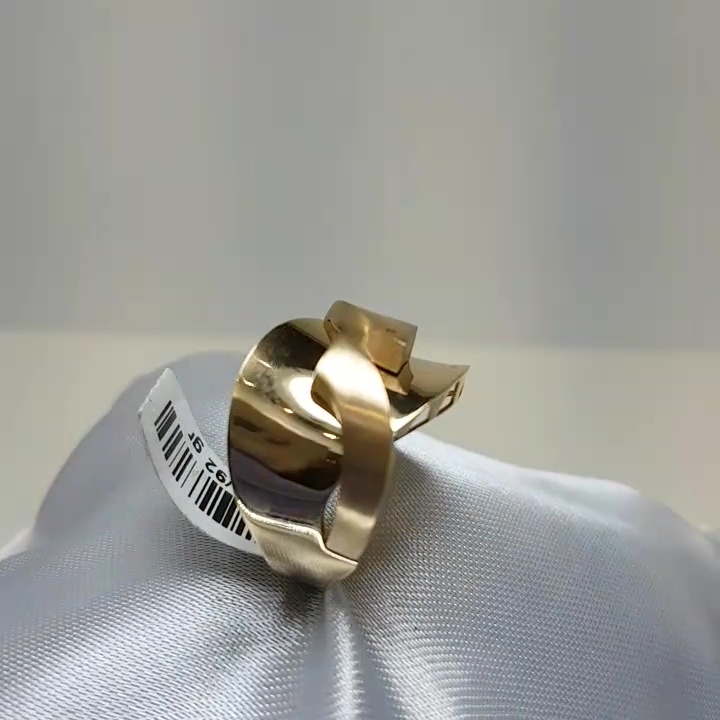Ring 4: (186, 276, 492, 601)
